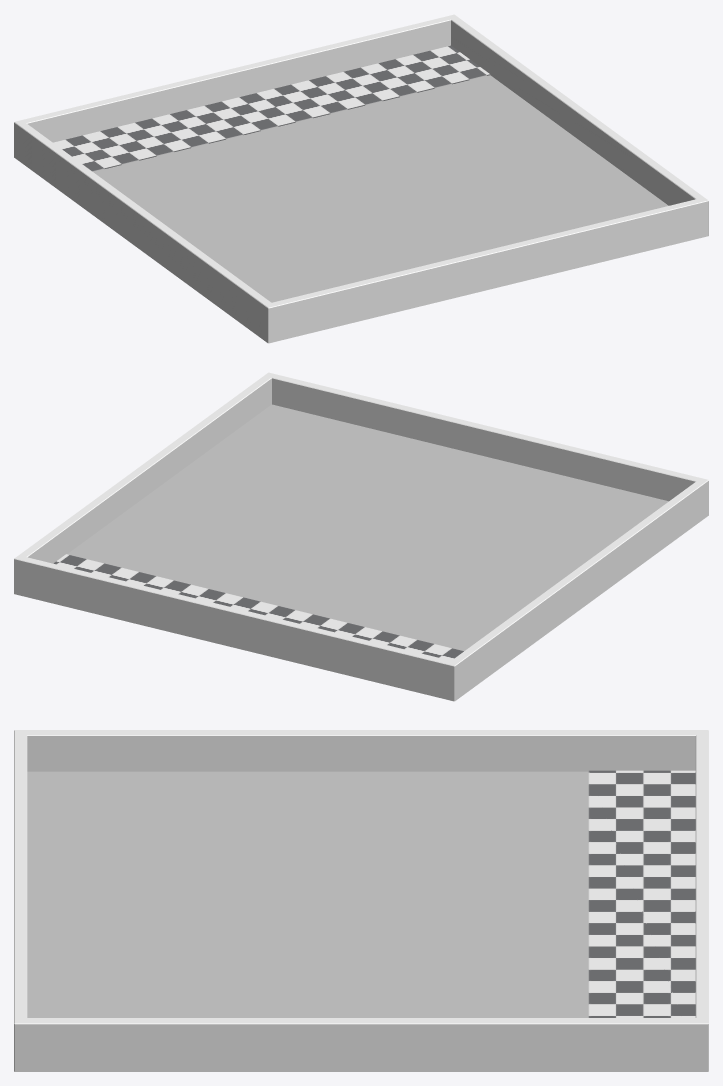
The model's file is PushBlockCourt.fbx.
3 renders of one model, top to bottom at view 1: azimuth 30°, elevation 25°; view 2: azimuth 150°, elevation 25°; view 3: azimuth 270°, elevation 25°, orthographic. The views are drawn at different scales.
Parts seen in each view (by area): view 1: Ground, WallsOuter, GoalArea; view 2: Ground, WallsOuter, GoalArea; view 3: Ground, WallsOuter, GoalArea.
Boxes of the visible parts, <box> form: Ground: <box>93,75,668,302</box>; WallsOuter: <box>14,14,708,343</box>; GoalArea: <box>53,45,490,171</box>; Ground: <box>67,404,668,650</box>; WallsOuter: <box>14,372,708,701</box>; GoalArea: <box>53,554,463,660</box>; Ground: <box>27,771,588,1017</box>; WallsOuter: <box>14,730,708,1071</box>; GoalArea: <box>588,770,695,1017</box>.
Size of the model in its own units: 26 by 2 by 26.
